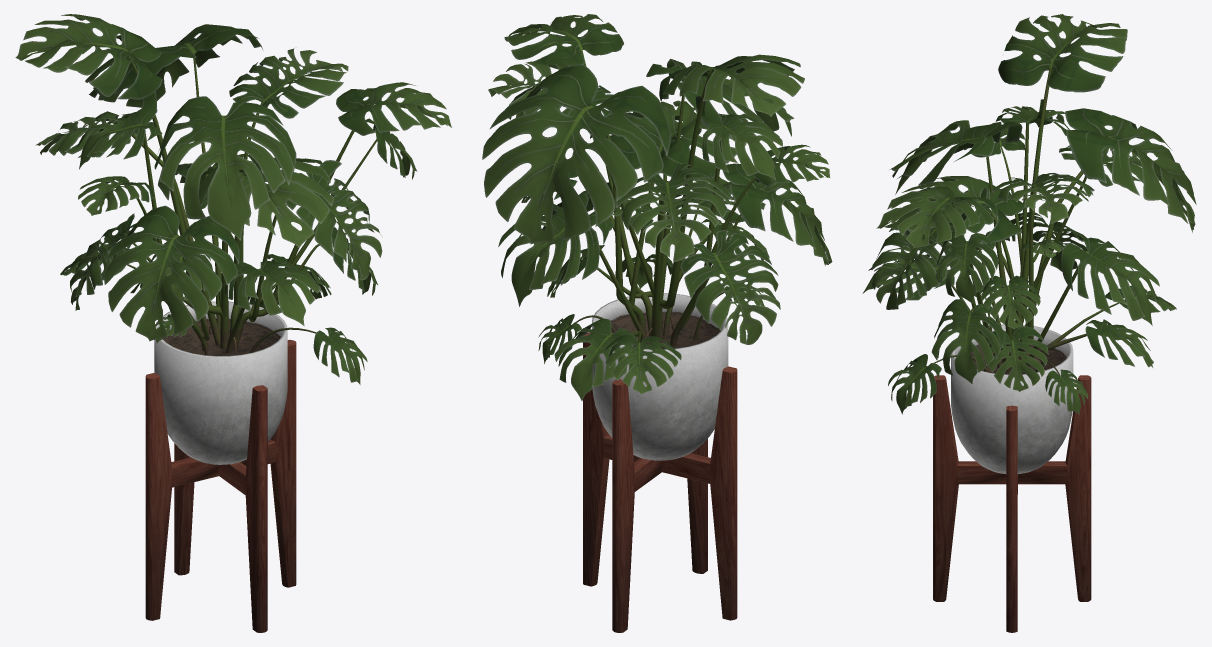
Rendered from Monstera i stativ.glb.
3 renders of one model, left to right at view 1: azimuth 30°, elevation 25°; view 2: azimuth 150°, elevation 25°; view 3: azimuth 270°, elevation 25°, orthographic. The views are drawn at different scales.
Visible parts, largest first — view 1: Leaves_Mat.1_0, Stand_Mat_0, root_HP_1_Mat.2_0; view 2: Leaves_Mat.1_0, Stand_Mat_0, root_HP_1_Mat.2_0; view 3: Leaves_Mat.1_0, Stand_Mat_0, root_HP_1_Mat.2_0.
Part boxes in pixels (x1,y1,x2,y2): Leaves_Mat.1_0: [15, 14, 451, 384]; Stand_Mat_0: [145, 301, 296, 632]; root_HP_1_Mat.2_0: [124, 53, 376, 355]; Leaves_Mat.1_0: [482, 14, 832, 400]; Stand_Mat_0: [583, 293, 737, 632]; root_HP_1_Mat.2_0: [559, 50, 755, 346]; Leaves_Mat.1_0: [862, 14, 1196, 414]; Stand_Mat_0: [933, 324, 1091, 632]; root_HP_1_Mat.2_0: [933, 68, 1124, 375].
Size of the model in its own units: 0.8695 by 1.36 by 0.7911.
3 materials, 3 textured.
